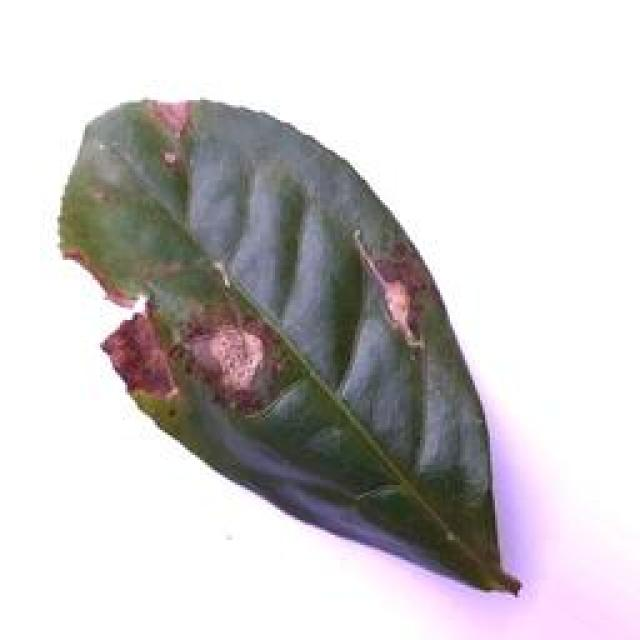Gray Blight: (55, 93, 526, 598)
